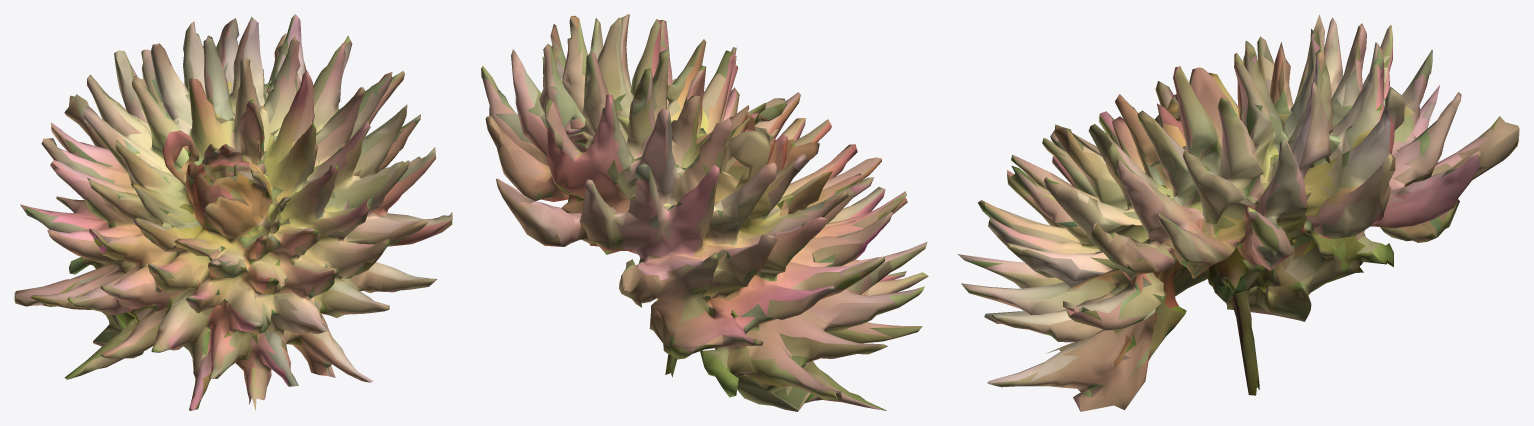
The model's file is dahlia.glb.
3 renders of one model, left to right at view 1: azimuth 30°, elevation 25°; view 2: azimuth 150°, elevation 25°; view 3: azimuth 270°, elevation 25°, orthographic. The views are drawn at different scales.
Visible parts, largest first — view 1: Object_2; view 2: Object_2; view 3: Object_2.
Part boxes in pixels (bbox=[...]): Object_2: bbox=[14, 14, 452, 410]; Object_2: bbox=[481, 14, 928, 411]; Object_2: bbox=[957, 14, 1519, 411].
Bounding box in the file's own units: 0.4286 × 0.3323 × 0.4514.
Materials: 1 (1 with a texture image).
